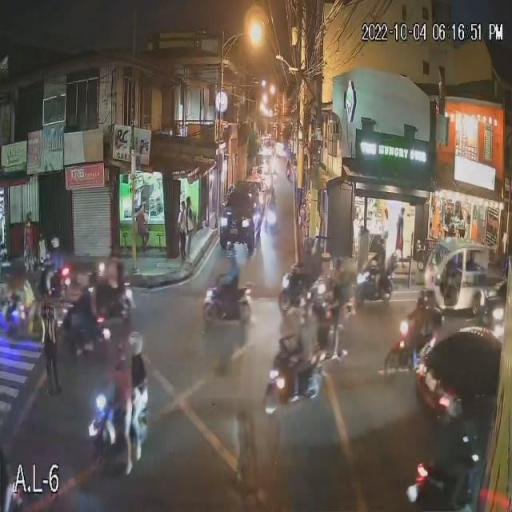helmet: (74, 270, 96, 290), (300, 237, 318, 256), (129, 332, 143, 354), (224, 250, 238, 267), (416, 299, 428, 310), (51, 236, 60, 248)
motorcycle: (85, 393, 160, 473), (261, 348, 348, 414), (380, 313, 444, 376), (57, 302, 114, 359), (204, 281, 258, 323), (278, 270, 320, 312), (353, 268, 398, 303), (33, 259, 73, 297)
rider: (106, 368, 136, 474), (280, 327, 319, 403), (72, 288, 103, 354), (292, 253, 320, 325), (130, 355, 148, 460), (214, 266, 244, 320), (407, 308, 426, 370), (41, 249, 63, 293), (370, 249, 386, 298)
